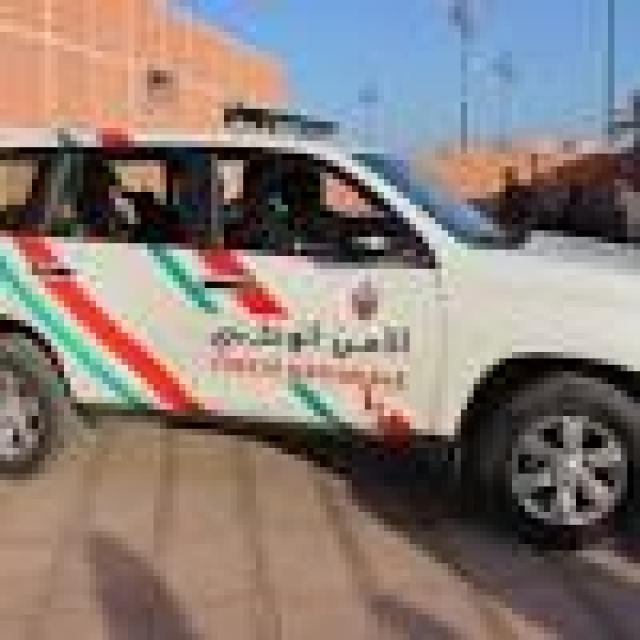police: (4, 100, 640, 532)
